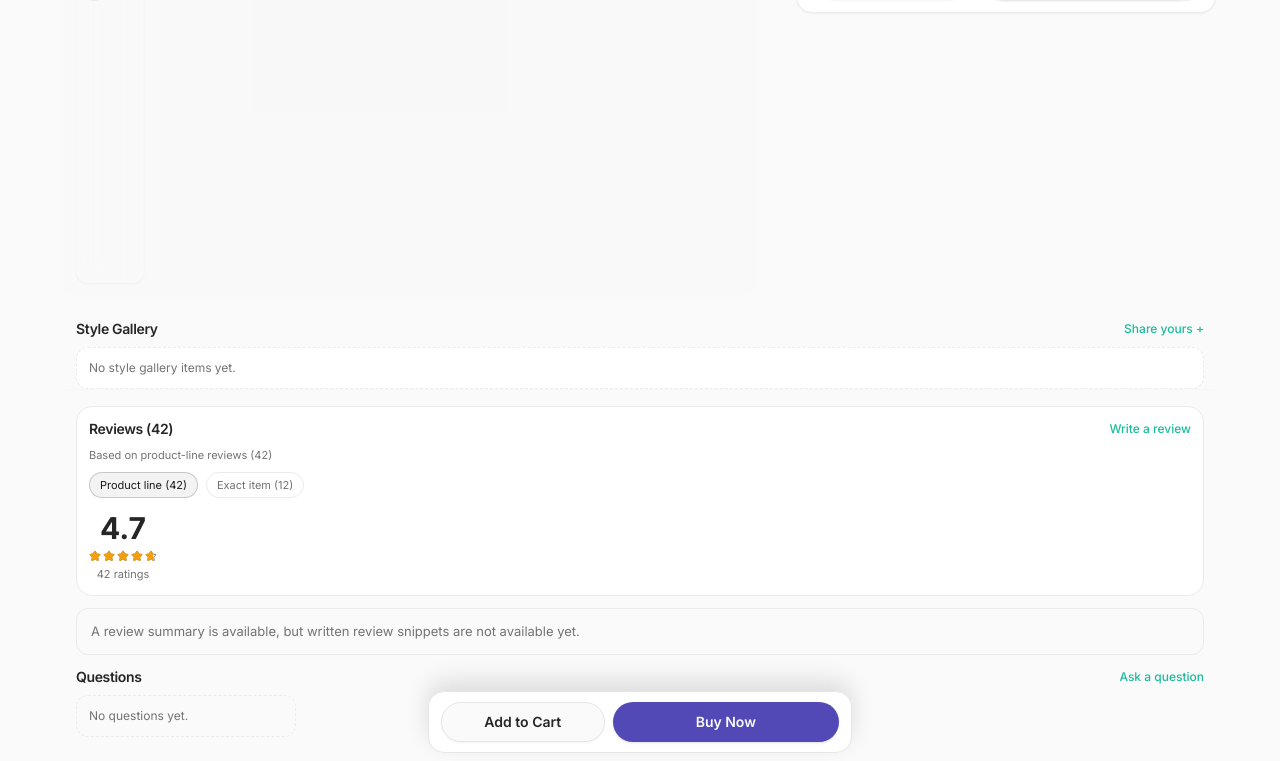
Test case: PdpContainer gallery viewer wiring › switches review summary when selecting the exact-item review scope
(page scrolled)
Check: the text "Based on product-line reviews (42)" is shown, box [89,448,272,462]
Click the button "Exact item (12)" at (255, 485), box [206,472,304,498]
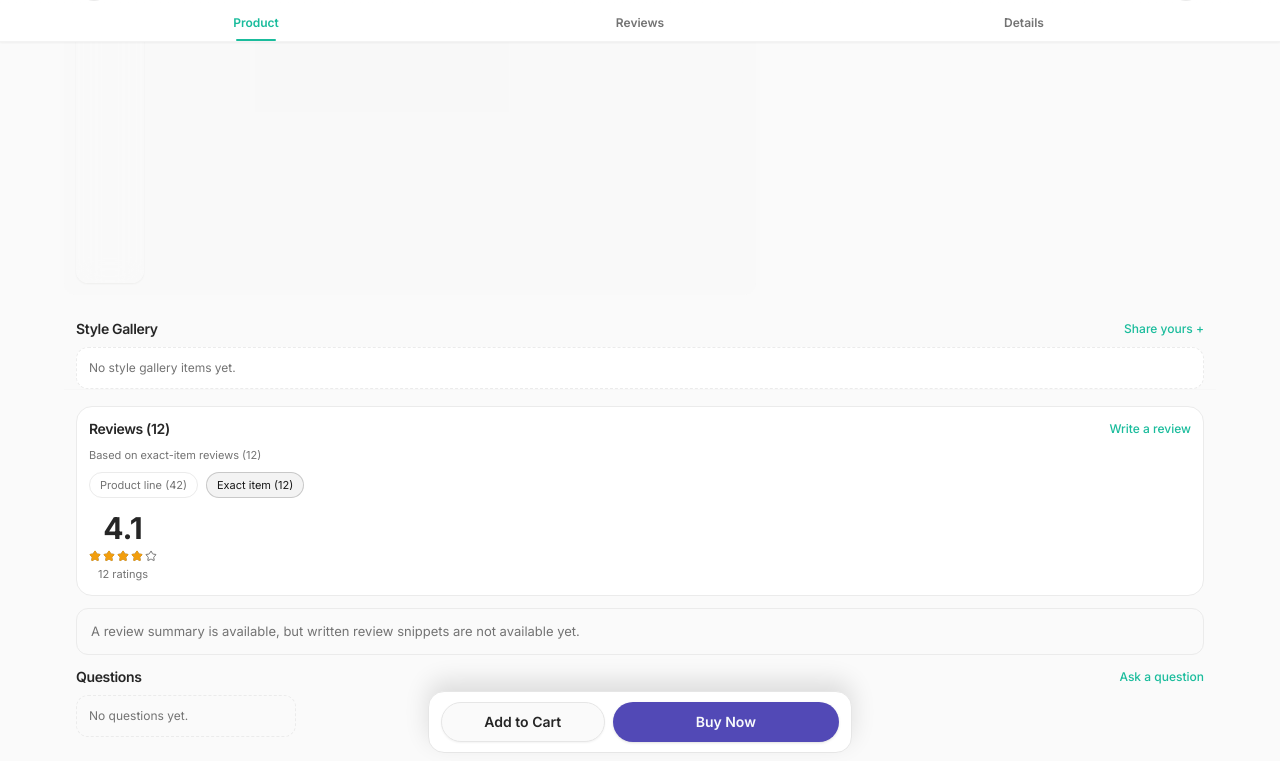
Check: the text "Based on exact-item reviews (12)" is shown, box [89,448,261,462]
Check: the heading "Reviews (12)" is shown, box [89,419,170,439]
